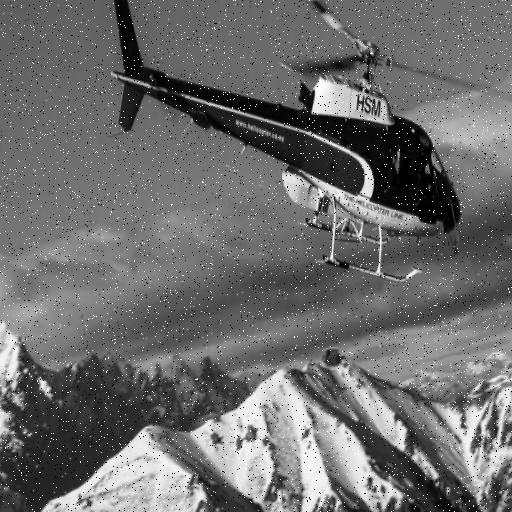helicopter: (107, 1, 509, 307)
